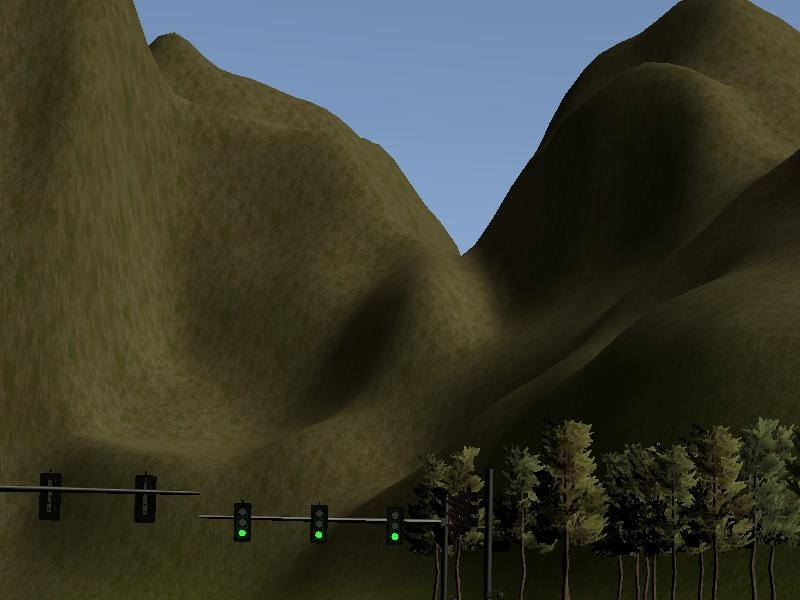green: (307, 502, 331, 546), (232, 499, 254, 542), (383, 505, 403, 546)
